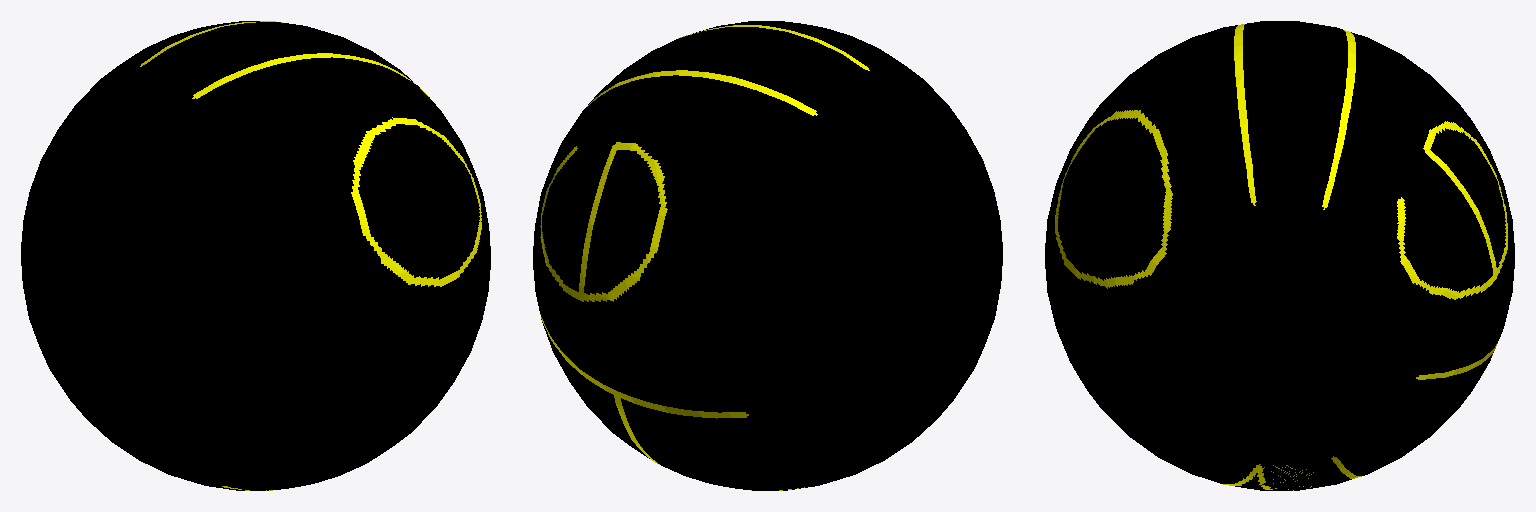
The picture shows the model from 3 angles: view 1: azimuth 30°, elevation 25°; view 2: azimuth 150°, elevation 25°; view 3: azimuth 270°, elevation 25°; orthographic projection.
Bounding box in the file's own units: 1 × 1 × 1.
1 materials, 1 textured.